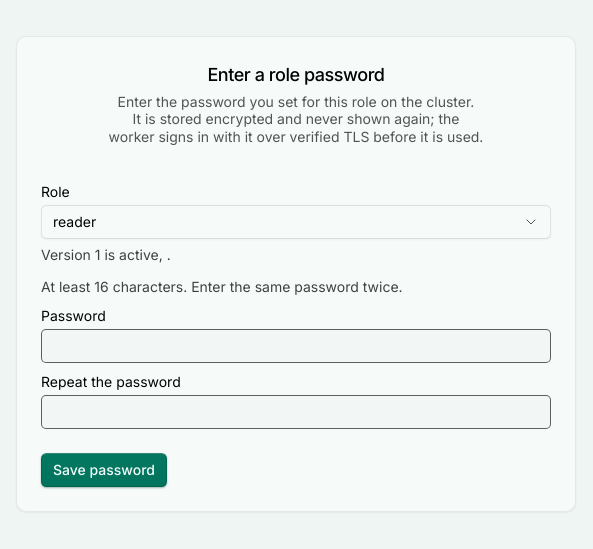
Test case: the credentials hand-off › empties both fields before the request is sent and never shows or keeps the password
This screenshot has width=593, height=549.
expect the heading "Enter a role password" is shown: met, box [208,61,385,89]
Type "tangerine fjord radiator 42" into the password field with id "credential-password" at (296, 346), box [41,329,551,363]
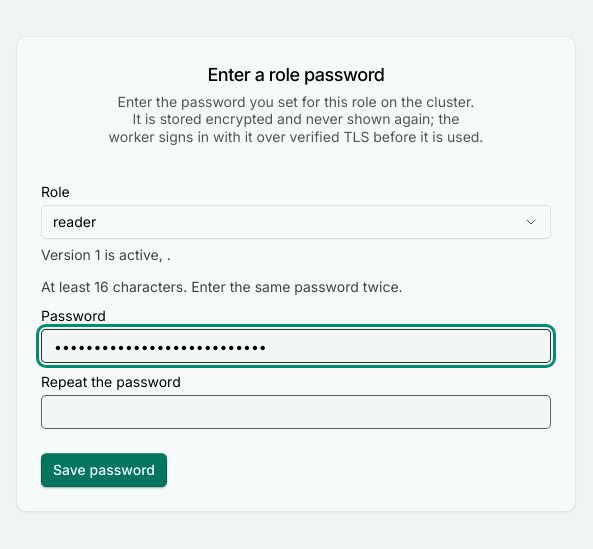
Type "tangerine fjord radiator 42" into the password field with id "credential-confirm" at (296, 412), box [41,395,551,429]
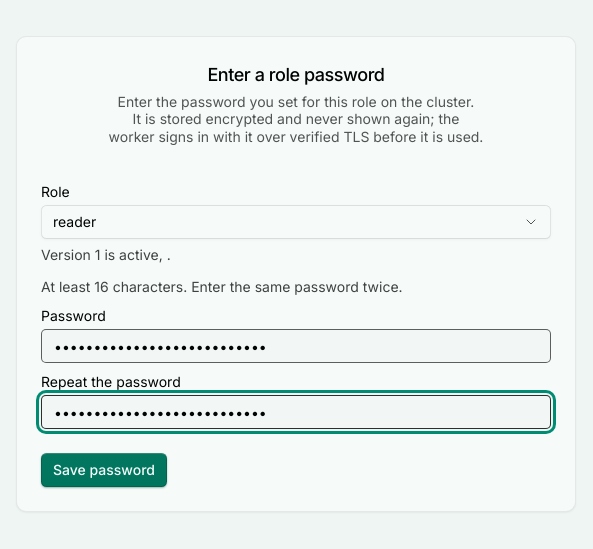
Click the button "Save password" at (104, 470), box [41,453,167,487]
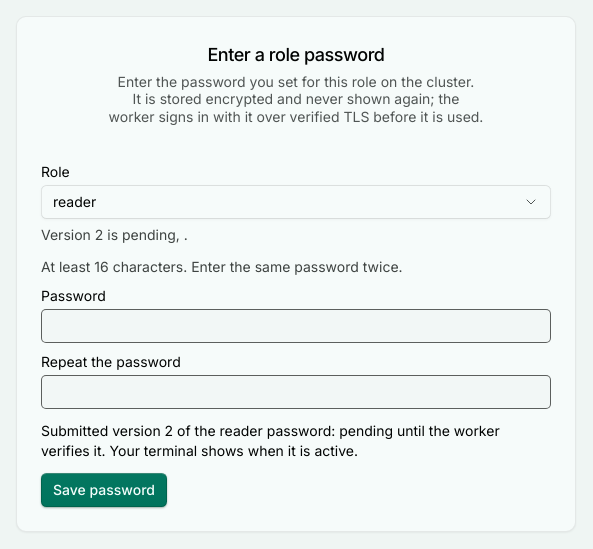
expect the text with id "credential-state" shows "Version 2 is pending": met, box [41,226,188,243]
